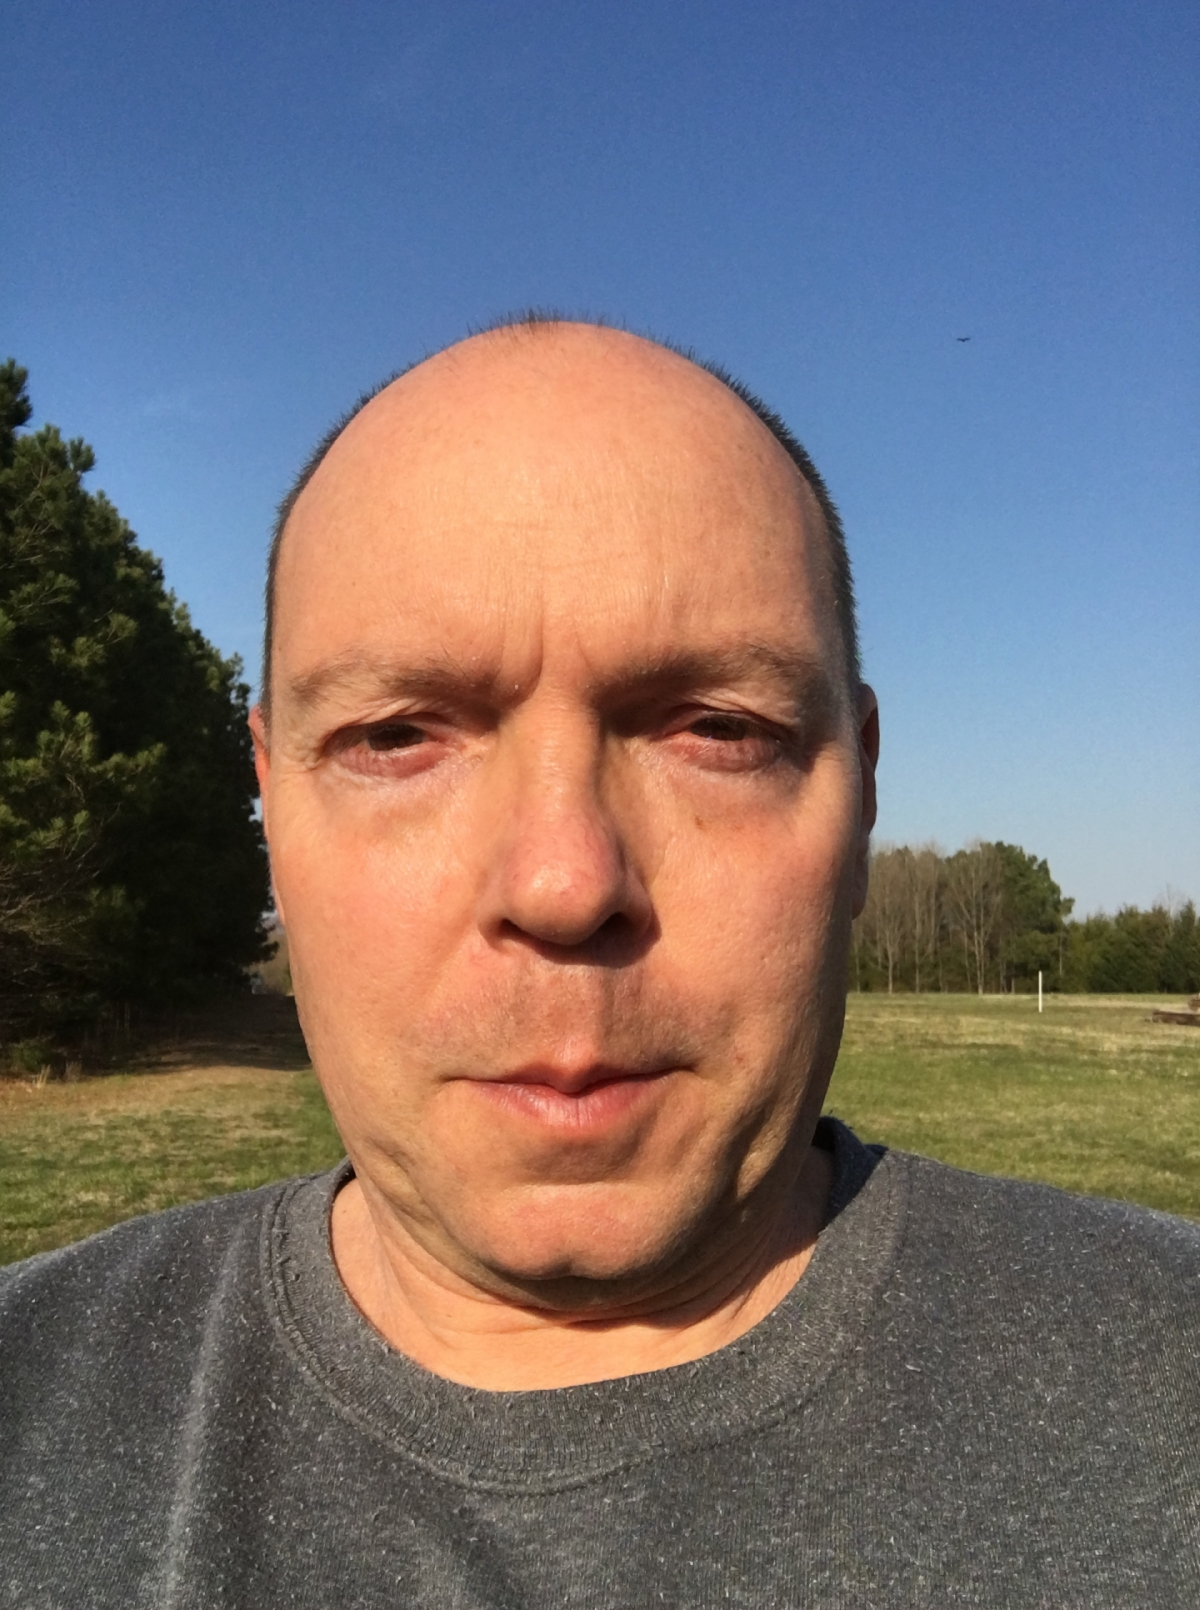human: (3, 288, 1200, 1610)
